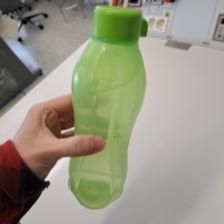bottle: (62, 6, 152, 209)
